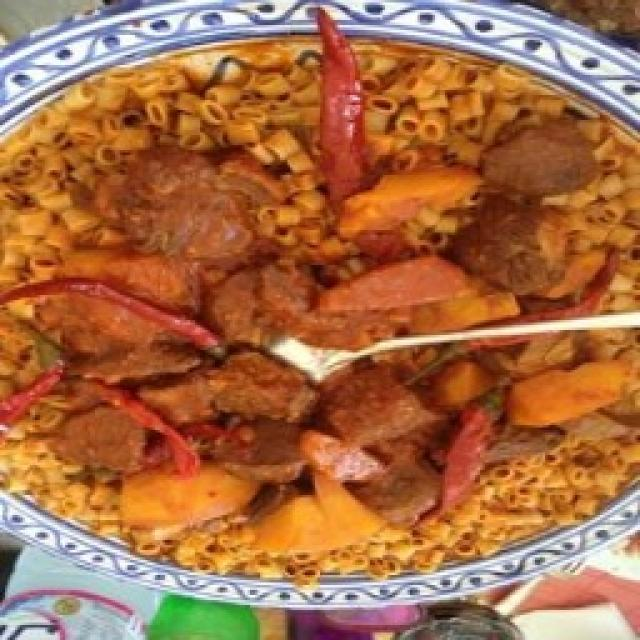Pasta: (0, 0, 640, 610)
